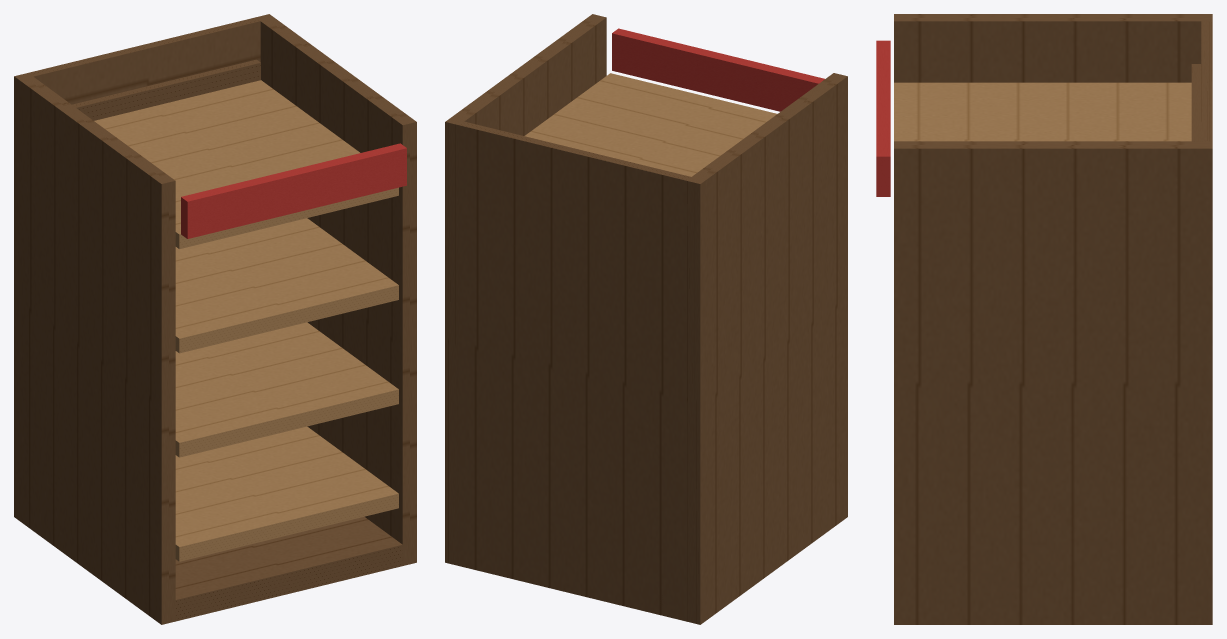
File: Alcohol_Shelf_1x1.obj
3 renders of one model, left to right at view 1: azimuth 30°, elevation 25°; view 2: azimuth 150°, elevation 25°; view 3: azimuth 270°, elevation 25°, orthographic. The views are drawn at different scales.
Visible parts, largest first — view 1: Alcohol_Shelf_1x1; view 2: Alcohol_Shelf_1x1; view 3: Alcohol_Shelf_1x1.
Boxes of the visible parts, <box> form: Alcohol_Shelf_1x1: <box>14,14,416,624</box>; Alcohol_Shelf_1x1: <box>445,14,847,624</box>; Alcohol_Shelf_1x1: <box>876,14,1212,624</box>.
Size of the model in its own units: 1 by 1.65 by 1.06.
3 materials, 3 textured.
